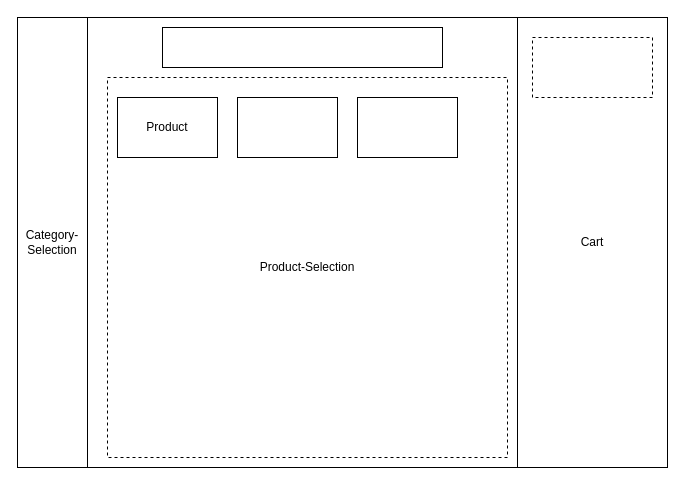
The diagram is 685 pixels wide and 485 high, and some of its shapes have lost their labels. The centre of each missing label's shape, as x and y in pixels:
"Cart-Item" goes at (592,67).
"Product-Search" goes at (302,47).
